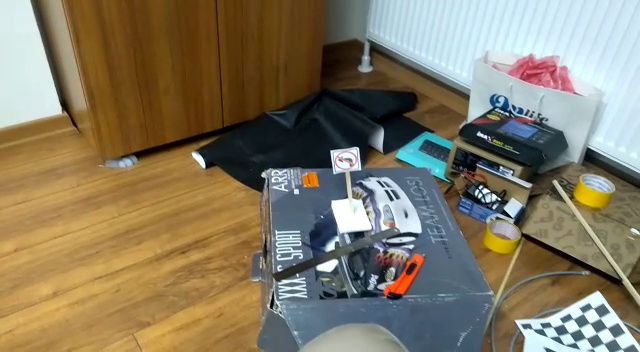sola_donulmez: (332, 147, 359, 172)
